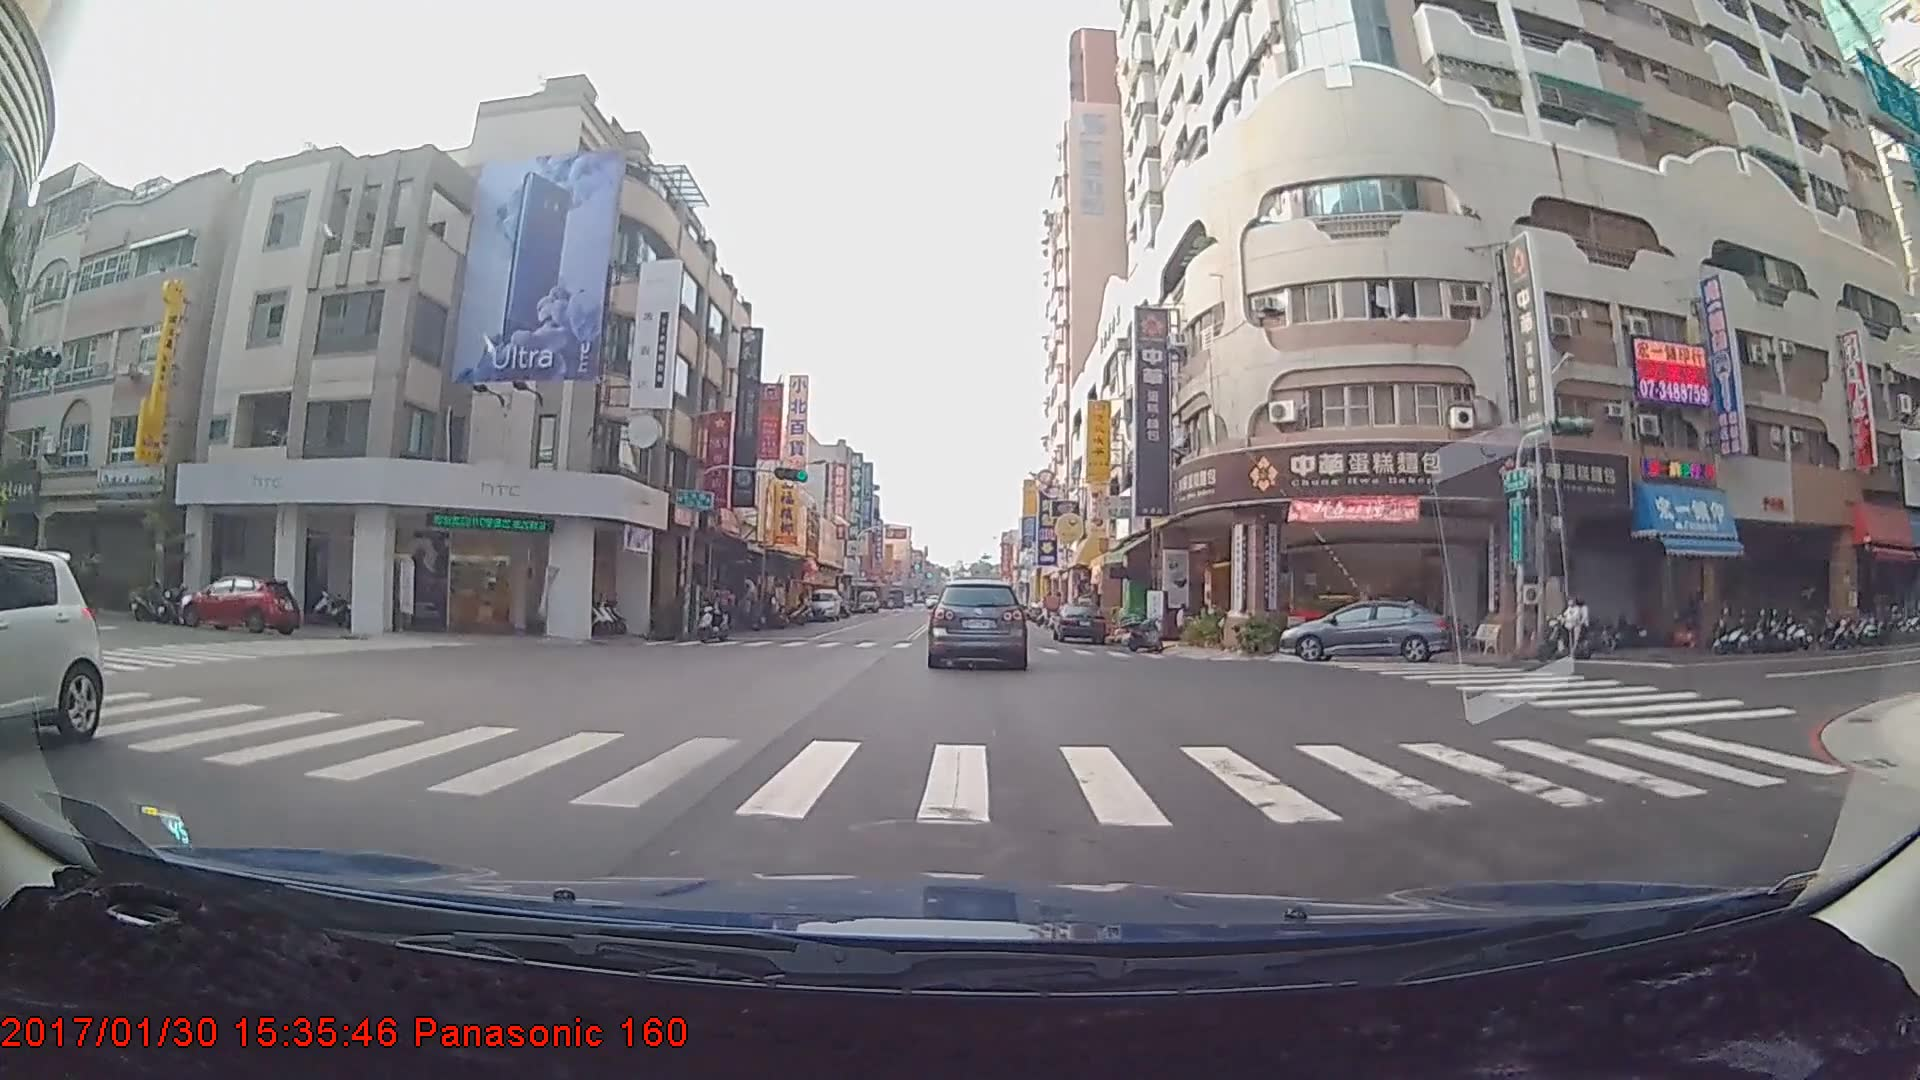rider: (1545, 592, 1605, 656), (694, 580, 732, 641)
vehicle: (0, 544, 104, 764), (1278, 597, 1449, 660), (927, 578, 1026, 669), (184, 574, 300, 636), (1050, 600, 1106, 645), (805, 587, 842, 621)
